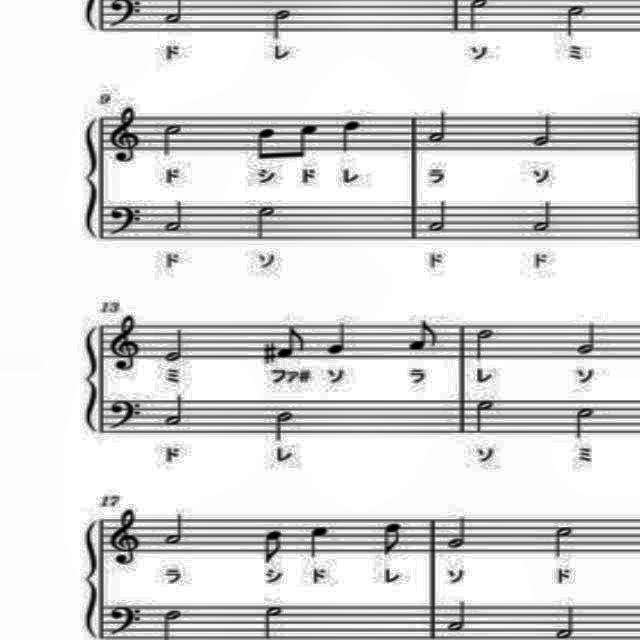Bass-clef: (104, 396, 148, 434), (106, 202, 146, 242), (104, 600, 148, 636)
Diez: (258, 335, 278, 367)
Eighth-note: (276, 320, 310, 368), (286, 118, 322, 162), (406, 316, 440, 360), (250, 122, 282, 166), (258, 527, 290, 569), (380, 516, 404, 558)
Half-note: (441, 511, 479, 557), (160, 392, 192, 432), (268, 406, 300, 446), (154, 119, 186, 157), (162, 324, 188, 370), (249, 204, 281, 240), (425, 199, 455, 237), (529, 198, 557, 238), (572, 320, 600, 360), (159, 510, 187, 550), (550, 522, 578, 562), (560, 3, 588, 42), (568, 406, 600, 439), (551, 600, 577, 640), (161, 198, 189, 234), (472, 395, 496, 437), (444, 598, 472, 634), (425, 109, 451, 147), (532, 112, 556, 152), (269, 6, 293, 44), (472, 326, 496, 362)
Quarter-note: (338, 116, 368, 160), (323, 314, 352, 358), (305, 518, 331, 562)
Treble-clef: (106, 103, 146, 169), (108, 310, 146, 378), (109, 508, 147, 576)
